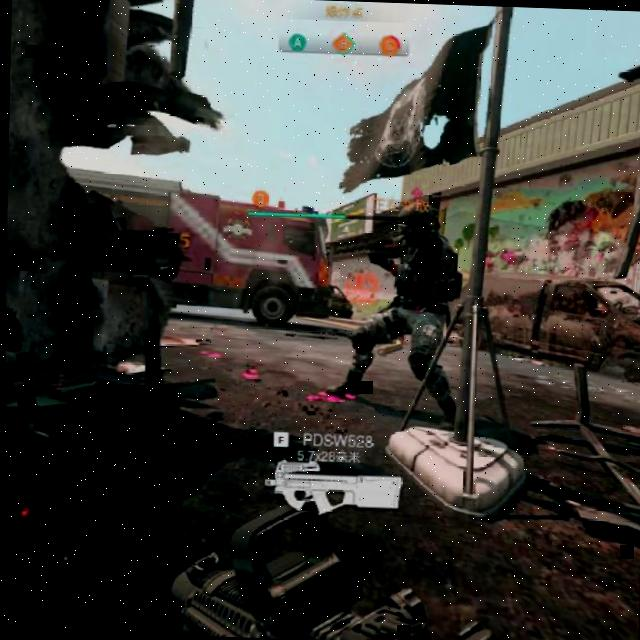MW2_body: (317, 186, 465, 427)
